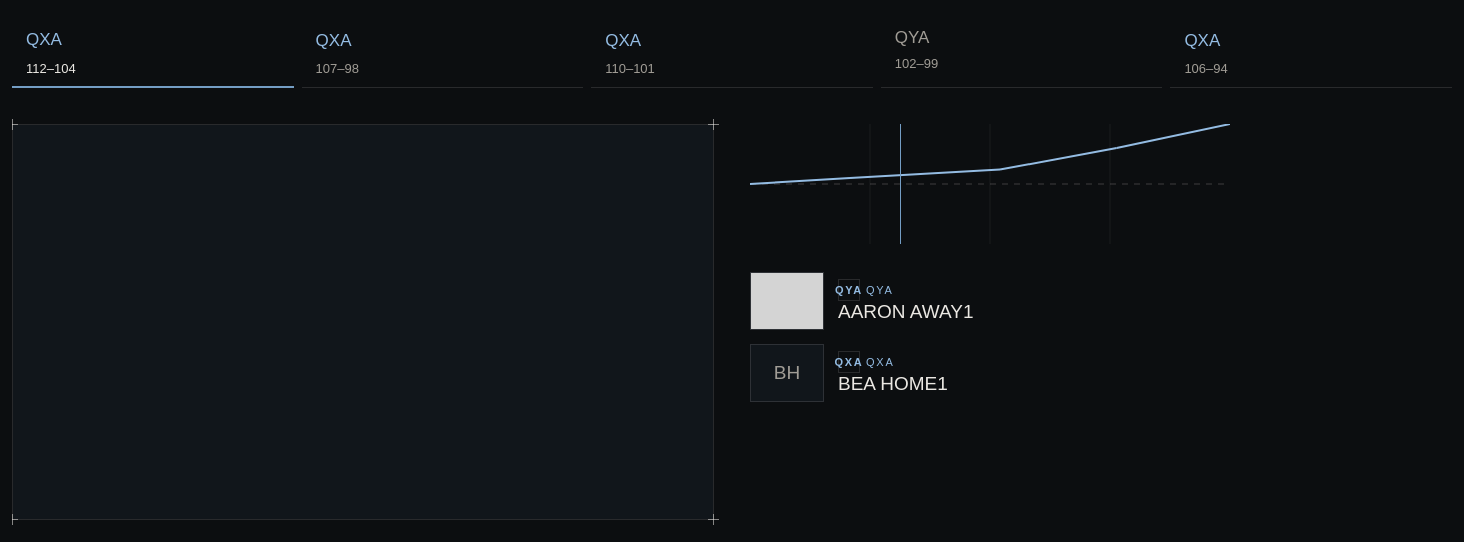
FinalsSeries › draws no leaders for a game without them
Click the button "QXA 106–94".
click(1202, 40)  # box left=1170, top=12, right=1452, bottom=88
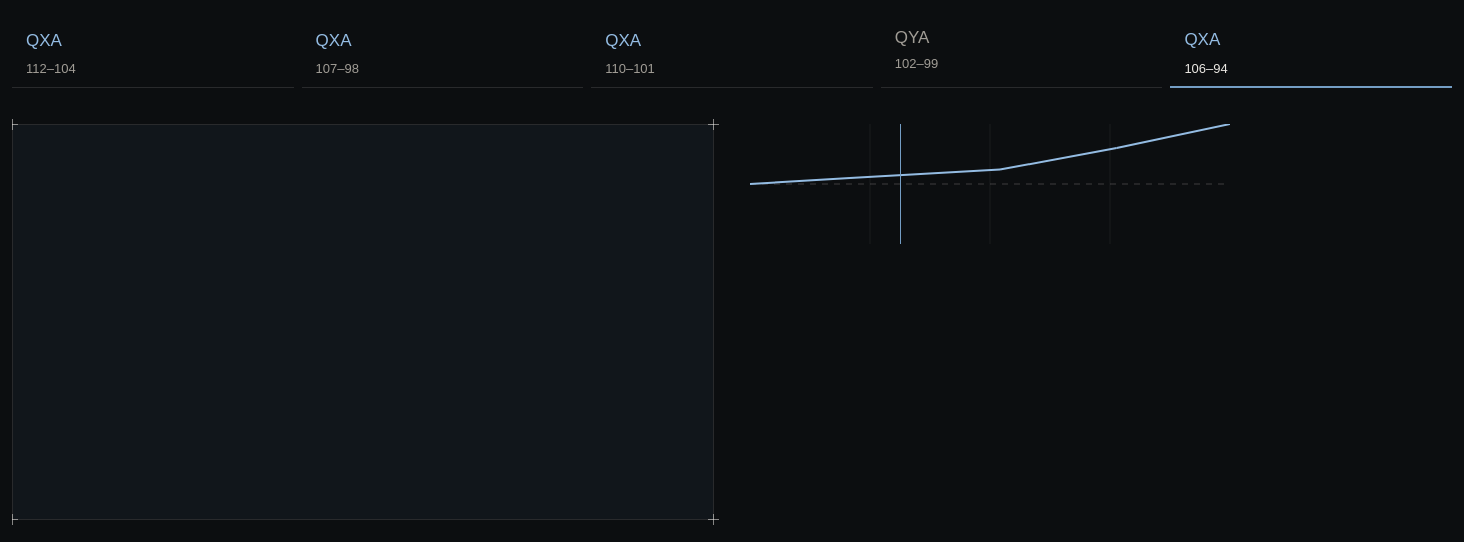
Result: the element with class "leaders" is gone
